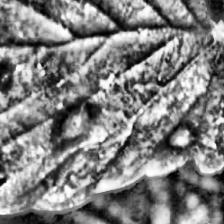Leaf Spot: (0, 0, 224, 218)
